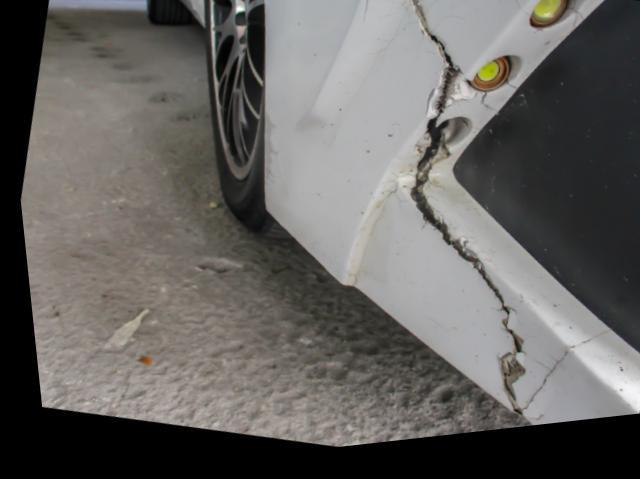crack: (397, 0, 604, 425)
